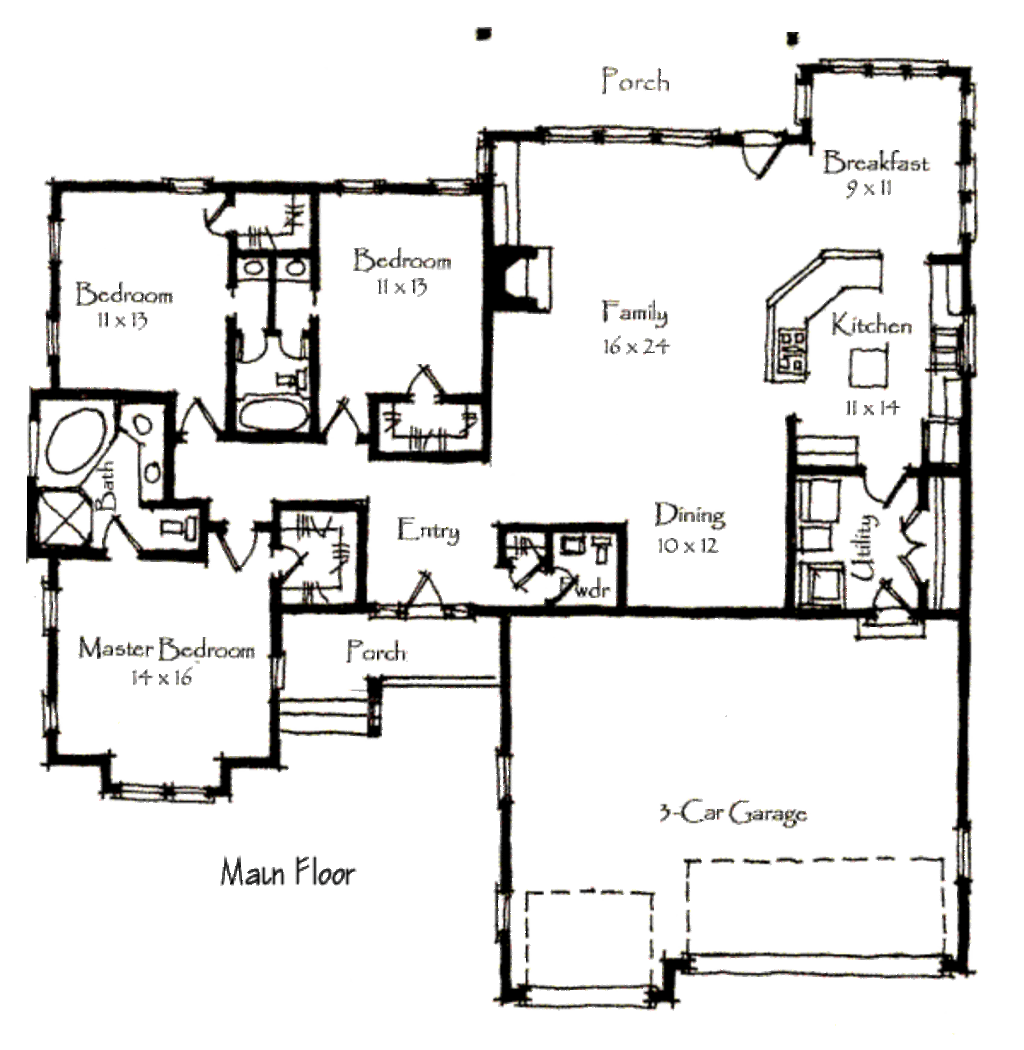door: (847, 574, 918, 647), (739, 131, 788, 189), (855, 467, 914, 515), (900, 504, 928, 601), (215, 520, 264, 575), (396, 564, 441, 618), (96, 512, 142, 556), (269, 537, 309, 585), (179, 396, 218, 439), (401, 362, 449, 396), (190, 202, 234, 239), (545, 566, 580, 612), (233, 326, 272, 367), (282, 329, 318, 364)
kitchen_bar: (742, 224, 915, 394)
large_sink: (152, 505, 202, 551), (268, 369, 315, 399)
small_sink: (110, 409, 168, 505), (236, 256, 312, 288)
tub: (28, 396, 114, 488), (239, 394, 301, 431)
twin_sink: (920, 316, 979, 380)
window: (99, 769, 210, 810), (483, 742, 528, 821), (33, 567, 69, 639), (34, 304, 69, 358), (952, 820, 979, 885), (37, 693, 68, 737), (496, 880, 515, 947), (45, 210, 69, 258)
